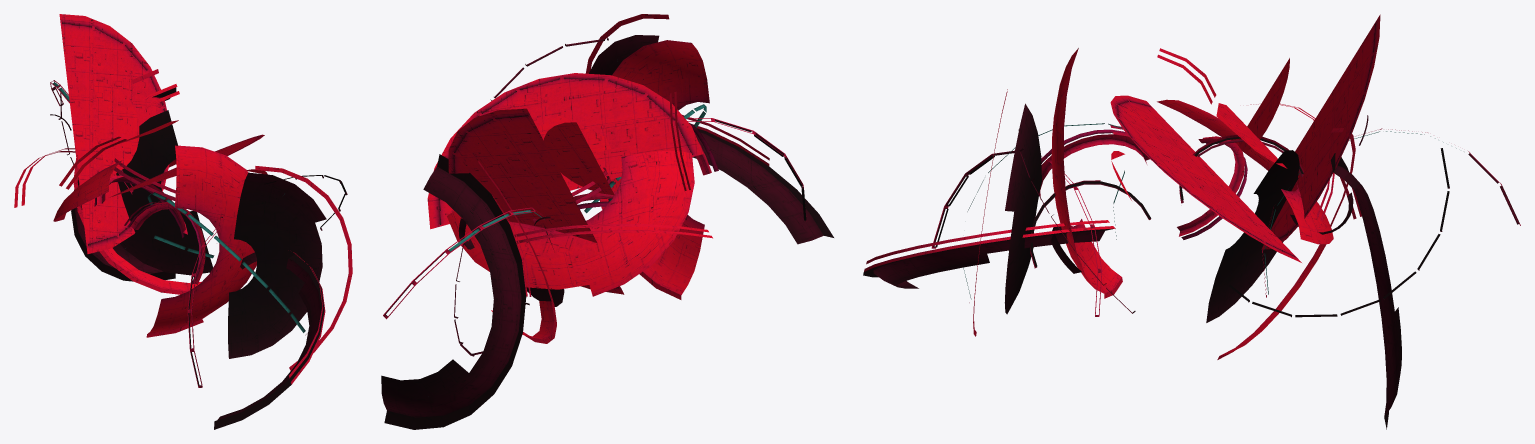
File: MonsterB_Die16.obj
3 renders of one model, left to right at view 1: azimuth 30°, elevation 25°; view 2: azimuth 150°, elevation 25°; view 3: azimuth 270°, elevation 25°, orthographic. The views are drawn at different scales.
Visible parts, largest first — view 1: Sphere001; view 2: Sphere001; view 3: Sphere001.
Boxes of the visible parts, left/top/right/bottom form: Sphere001: left=14, top=14, right=352, bottom=429; Sphere001: left=381, top=14, right=833, bottom=429; Sphere001: left=863, top=14, right=1520, bottom=429.
Bounding box in the file's own units: 254 × 270 × 463.
Materials: 1 (1 with a texture image).
